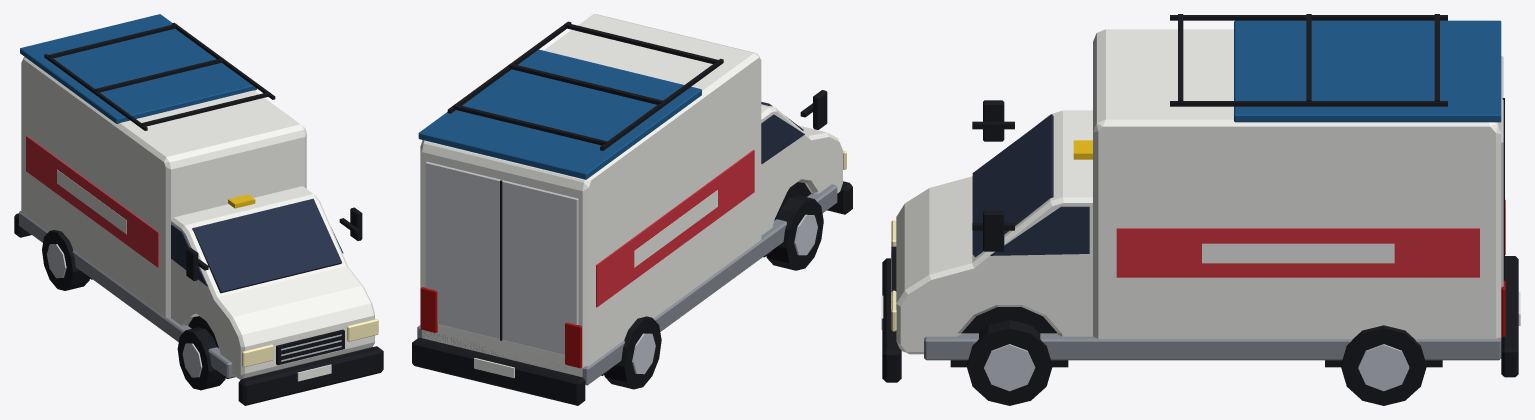
Rendered from van.glb.
3 views of the same model, side by side, from view 1: azimuth 30°, elevation 25°; view 2: azimuth 150°, elevation 25°; view 3: azimuth 270°, elevation 25° (orthographic). The views are drawn at different scales.
Parts seen in each view (by area): view 1: van; view 2: van; view 3: van.
Part boxes in pixels (bbox=[...]): van: bbox=[14, 14, 383, 405]; van: bbox=[412, 14, 852, 405]; van: bbox=[881, 14, 1520, 405].
Size of the model in its own units: 2.52 by 3.08 by 5.98.
